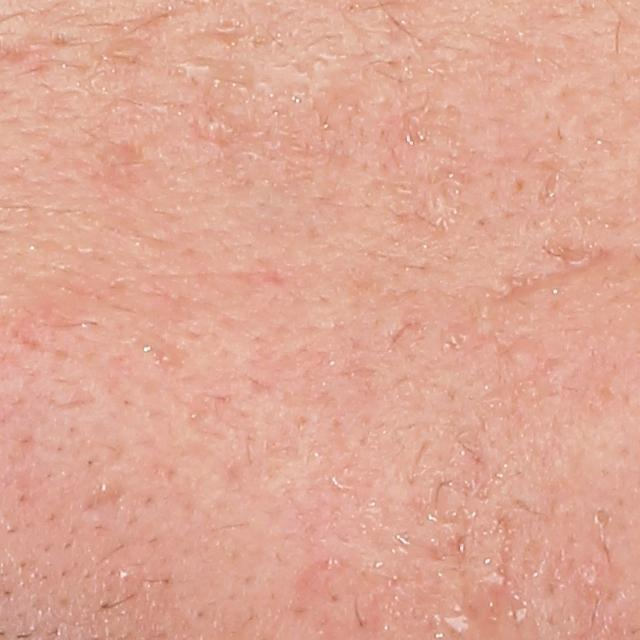atrophic_scar: (535, 236, 633, 278), (76, 486, 133, 517)
comedo: (588, 506, 613, 530)
